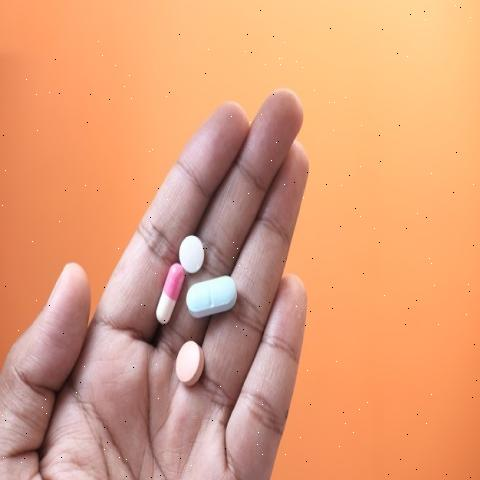Pill: (184, 276, 243, 323), (172, 338, 214, 386), (180, 231, 212, 275)
